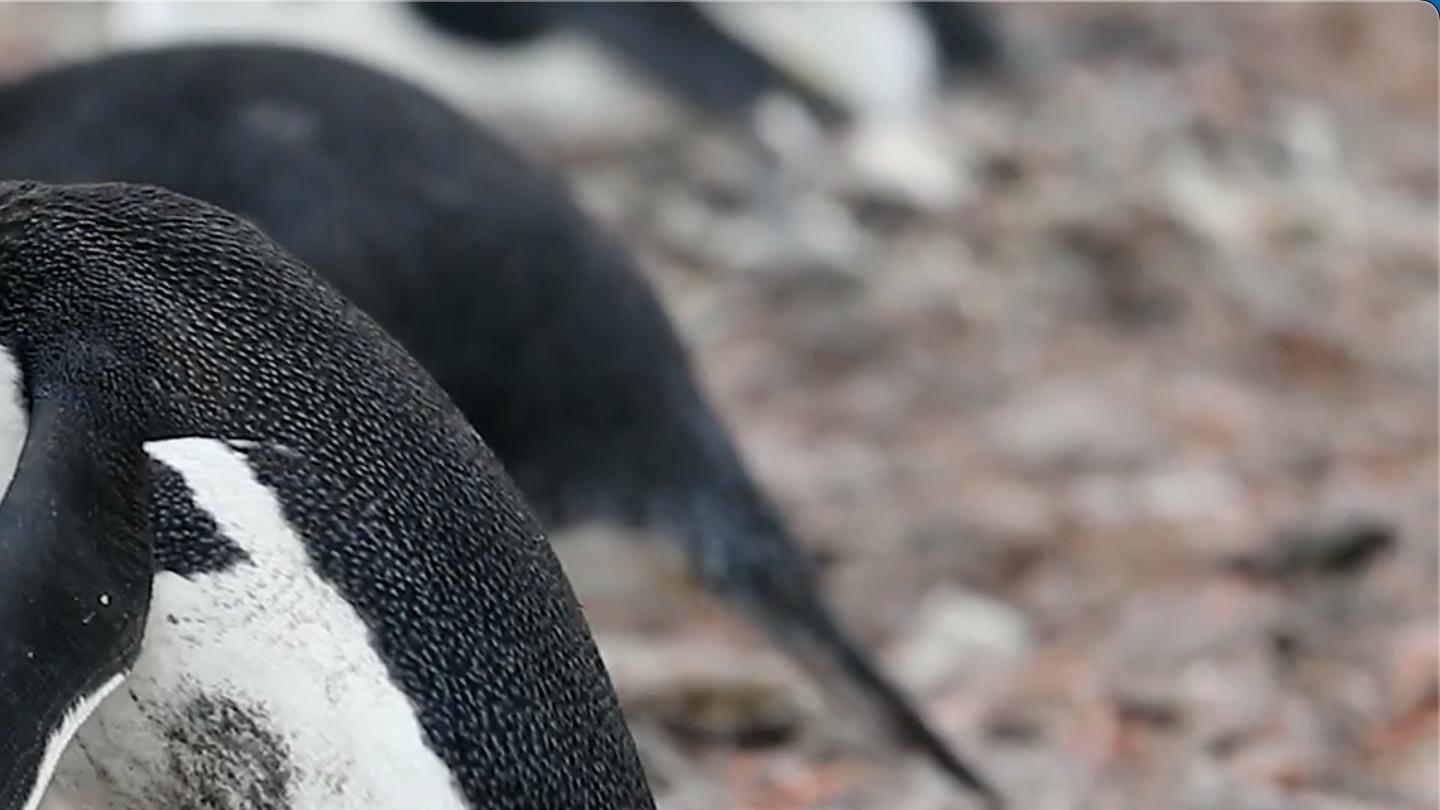Chinstrap Penguin: (0, 165, 644, 773), (0, 612, 621, 810)
